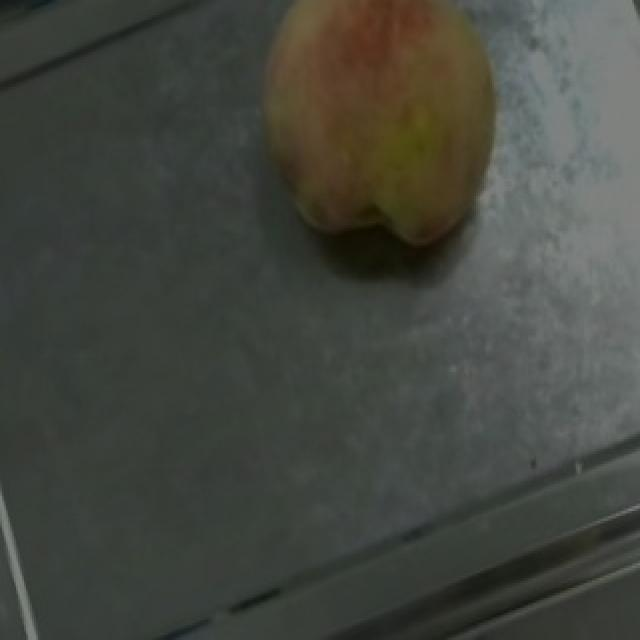Fruit: (212, 0, 540, 288)
